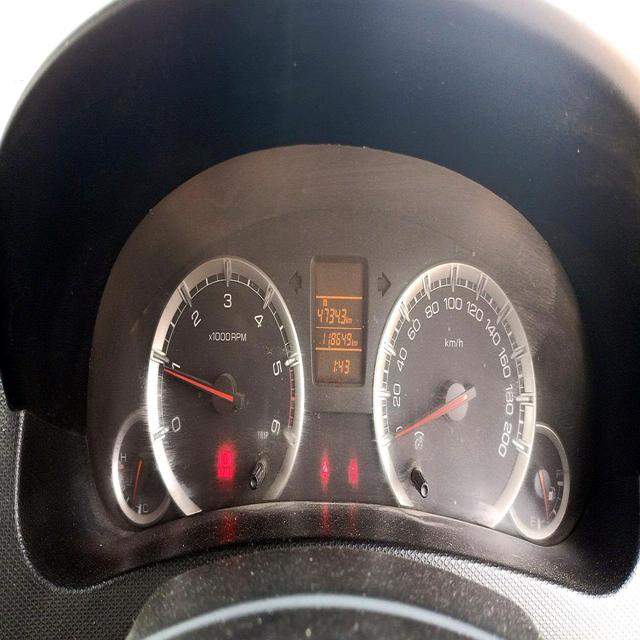odometer: (320, 328, 352, 350)
